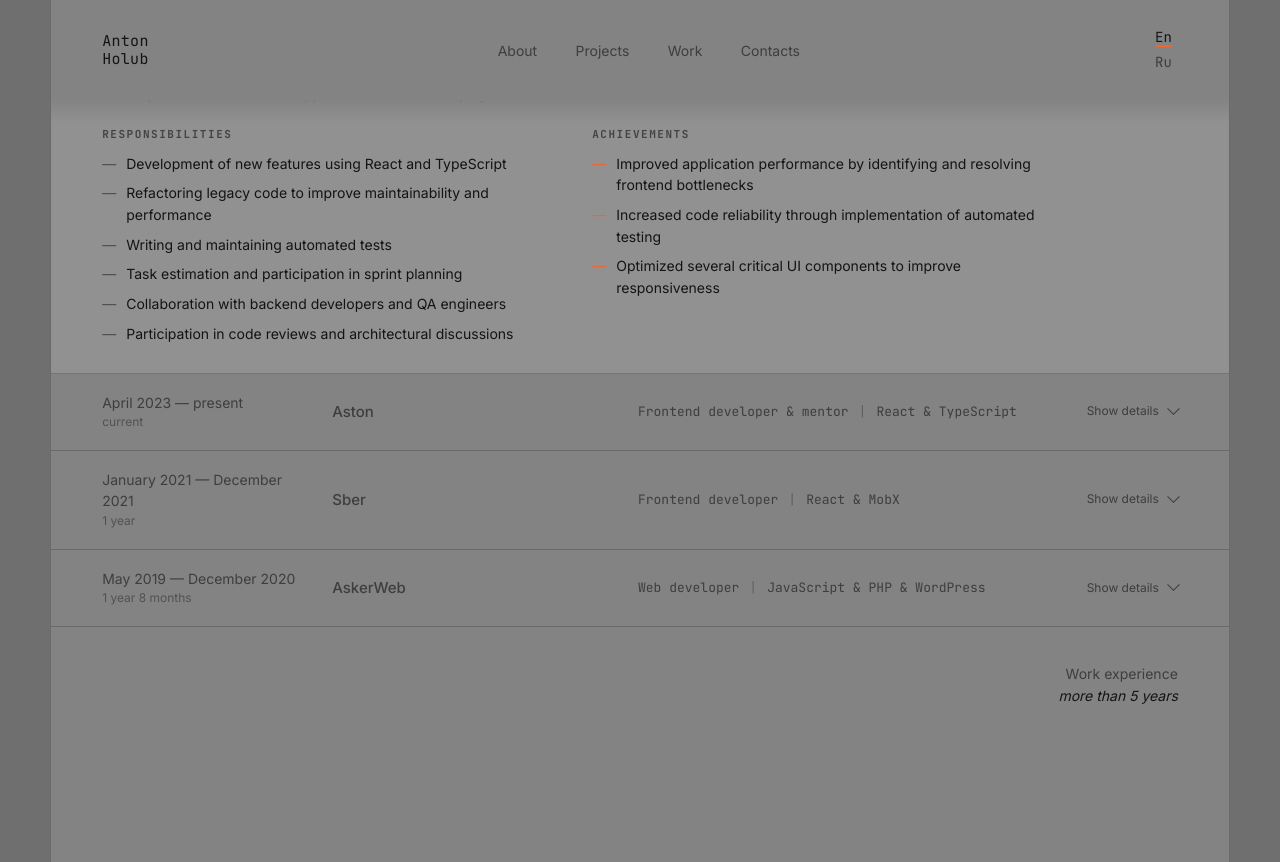
Test: reading the work history › opens another job and closes the previous one
(page scrolled)
Click the button "Sber". click: {"x": 640, "y": 500}
box: left=51, top=451, right=1229, bottom=549
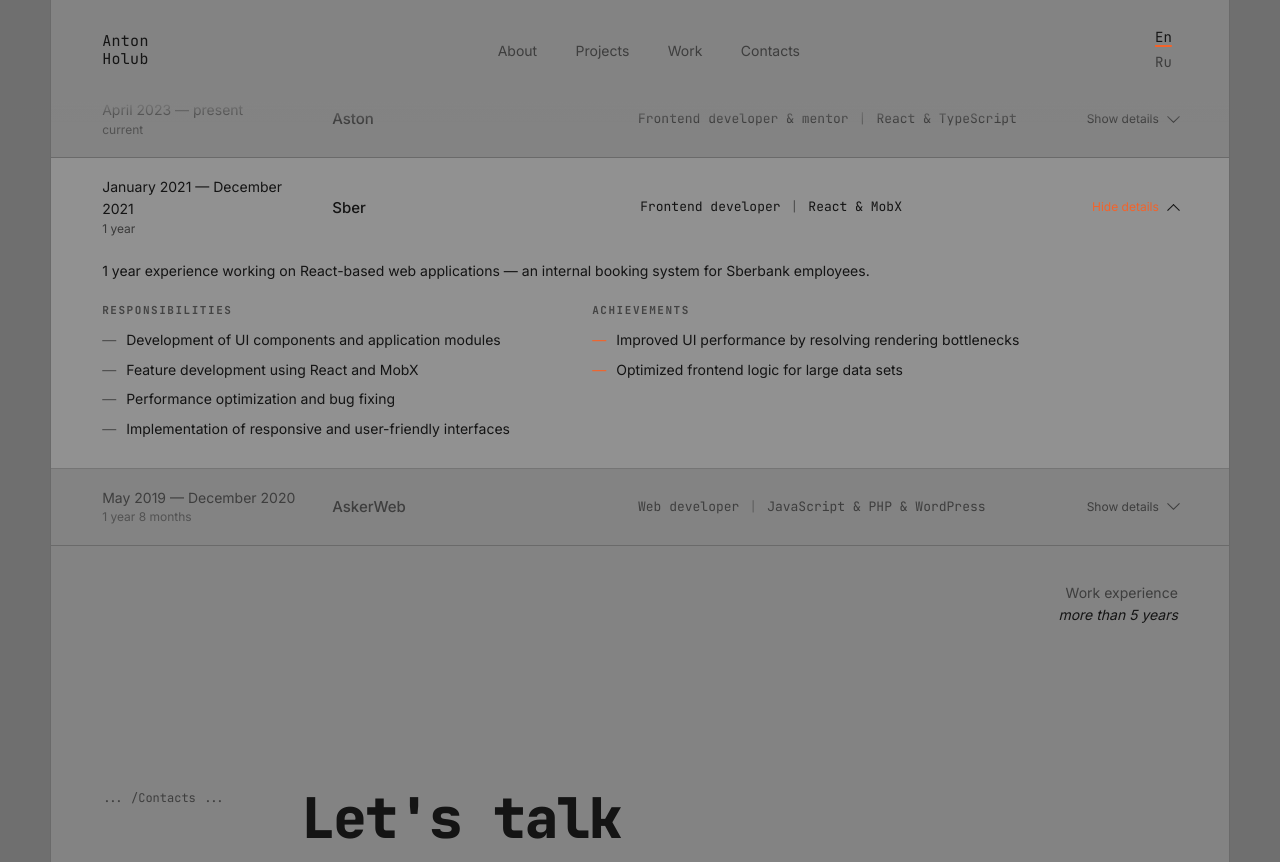
Check: the button "Sber" is expanded, box left=51, top=158, right=1229, bottom=256
Check: the text "Feature development using React and MobX" is shown, box left=126, top=361, right=418, bottom=378
